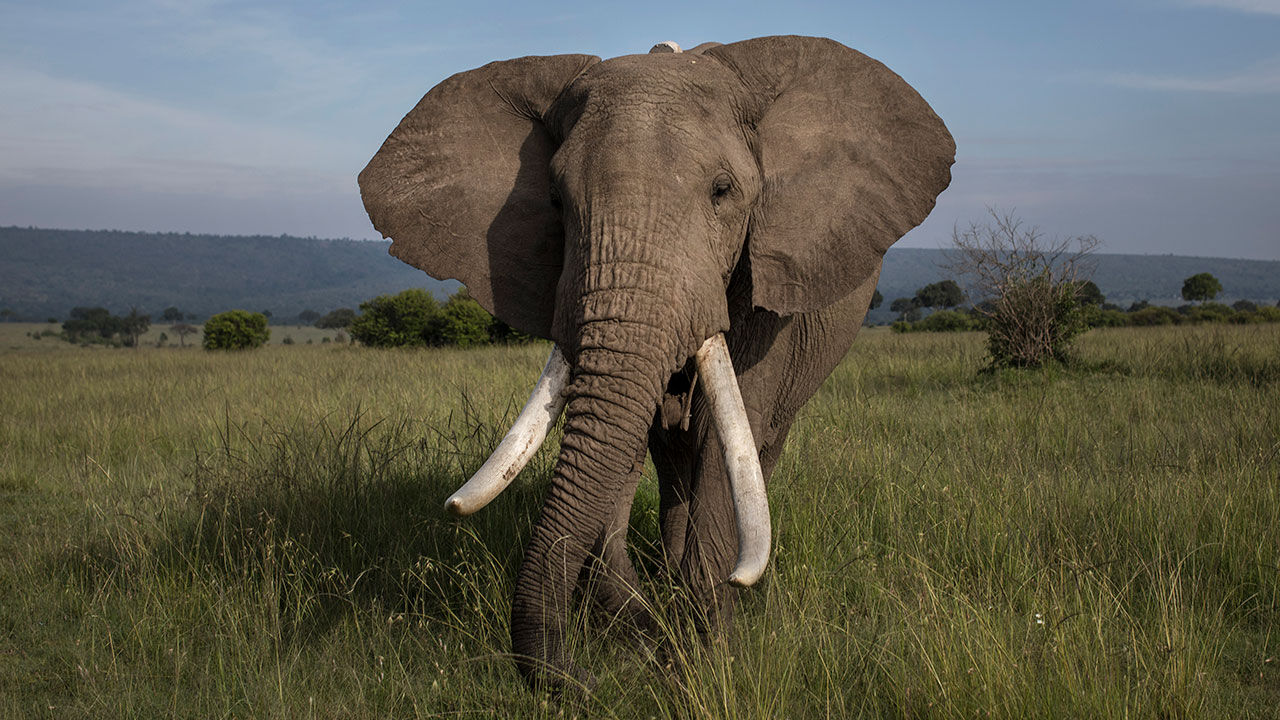Elephant: (344, 21, 984, 702)
